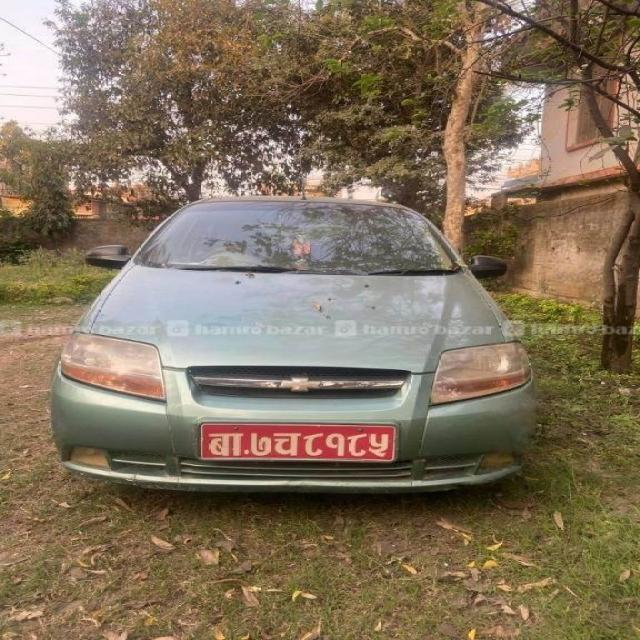License-plate: (191, 417, 402, 463)
